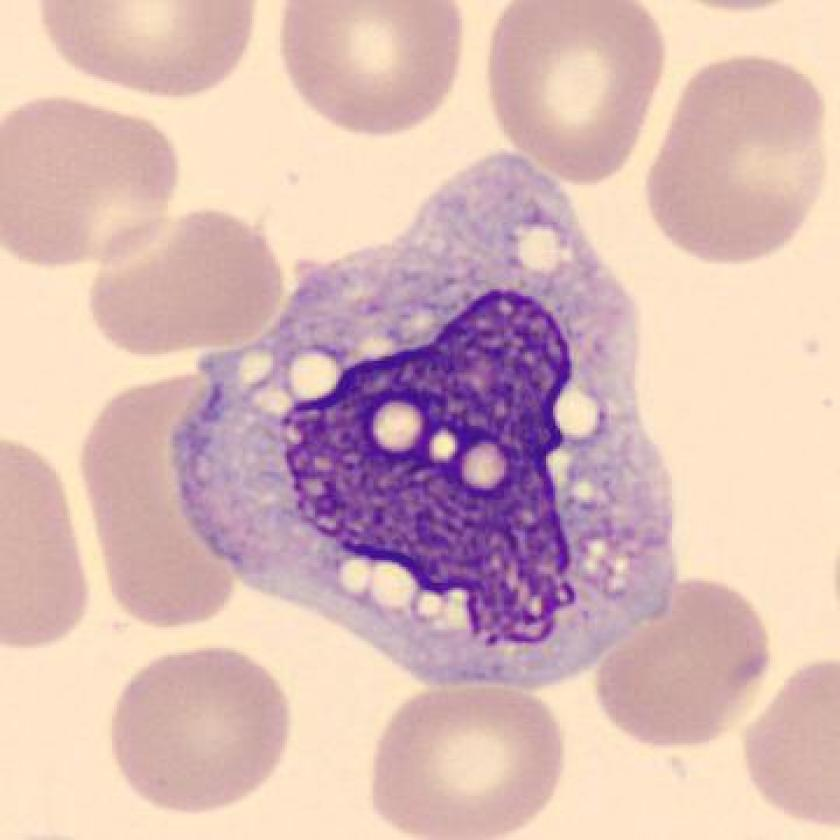monocyte: (165, 138, 697, 702)
